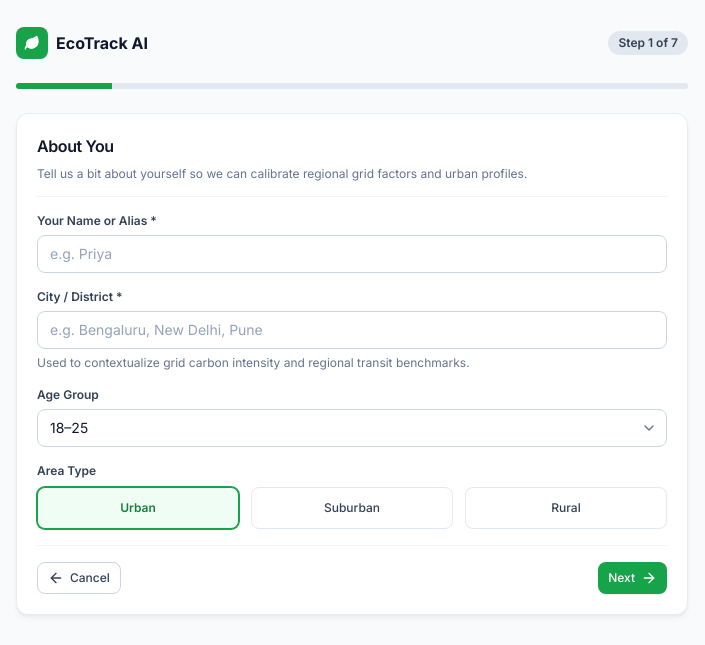
Scenario: Onboarding Flow Component › validates mandatory fields on Step 1 when clicking Next without filling
The image size is (705, 645).
Click the button "Next".
click(633, 578)  # box [598,562,667,594]
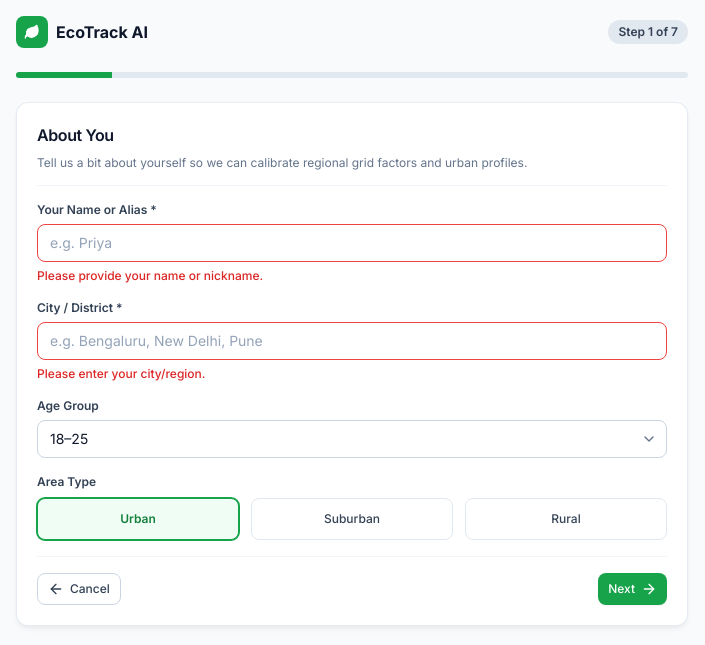
Result: the text "Please provide your name or nickname." is shown at [37,268,263,283]
